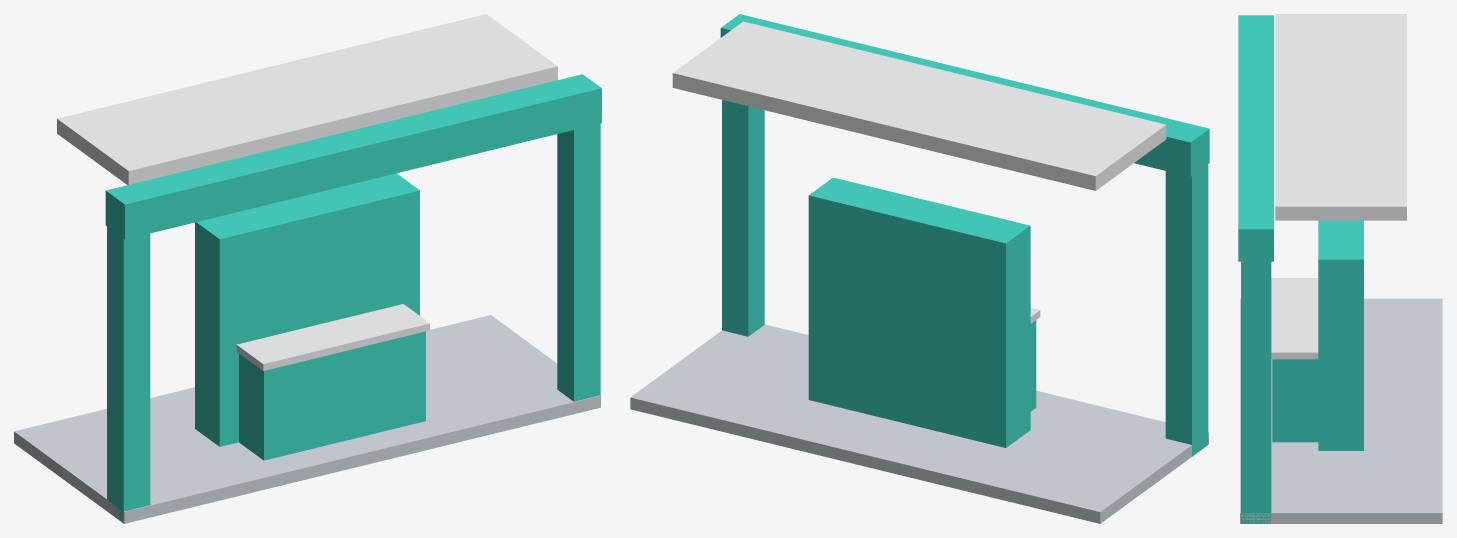
The picture shows the model from 3 angles, left to right: view 1: azimuth 30°, elevation 25°; view 2: azimuth 150°, elevation 25°; view 3: azimuth 270°, elevation 25°; orthographic projection. The views are drawn at different scales.
Visible parts, largest first — view 1: Exhibition Booth Concept; view 2: Exhibition Booth Concept; view 3: Exhibition Booth Concept.
Part boxes in pixels (x1,y1,x2,y2): Exhibition Booth Concept: (14, 14, 601, 523); Exhibition Booth Concept: (630, 14, 1209, 523); Exhibition Booth Concept: (1238, 14, 1442, 523).
Size of the model in its own units: 5 by 3.34 by 2.01.
